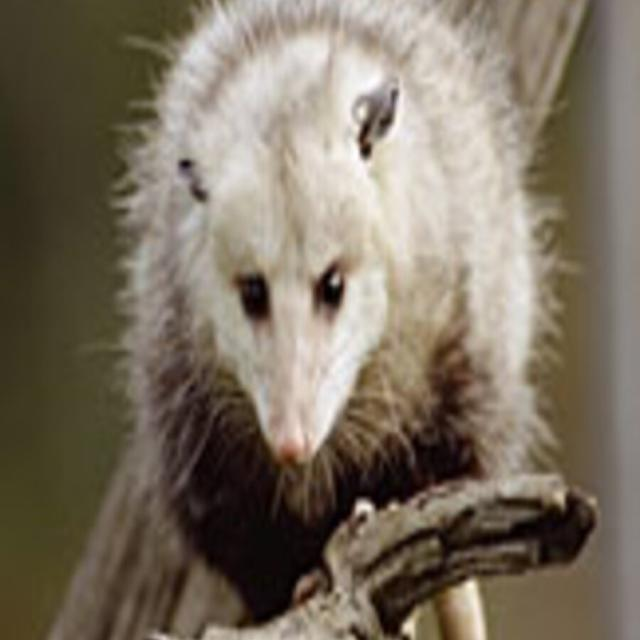Possum: (119, 0, 557, 584)
